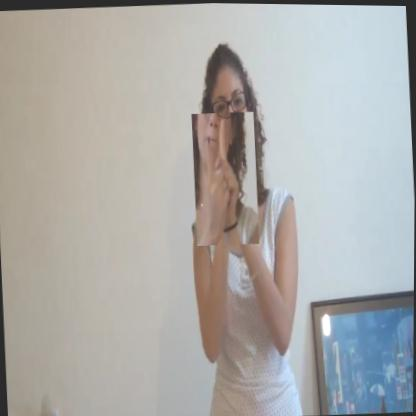NiceToMeetYou: (191, 110, 260, 246)
